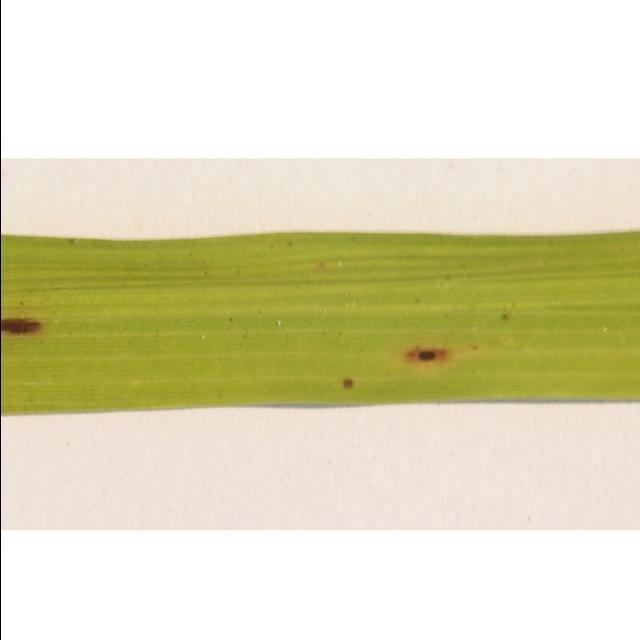Brown spot: (405, 326, 476, 368), (0, 304, 51, 344), (492, 294, 530, 344), (328, 370, 372, 400)
